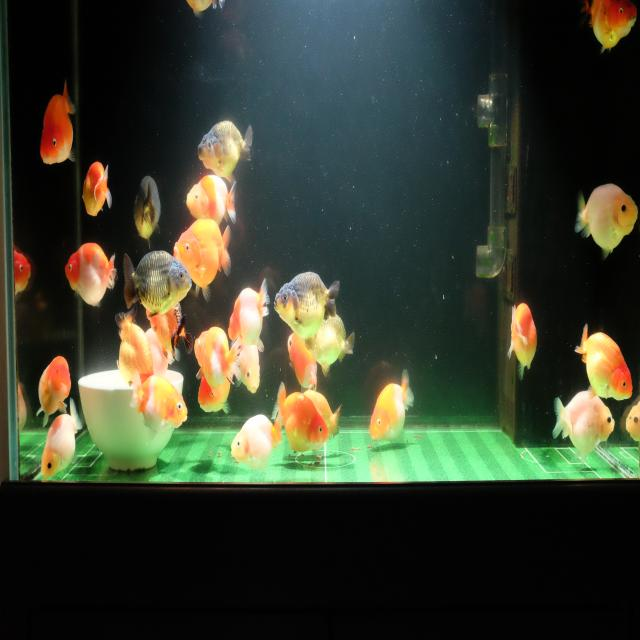Tilapia: (120, 246, 193, 322), (574, 181, 640, 263), (272, 266, 341, 342), (172, 217, 232, 304), (551, 387, 615, 465), (574, 322, 634, 403), (128, 367, 190, 445), (274, 380, 329, 455), (63, 240, 119, 312), (196, 115, 254, 183), (39, 395, 84, 482), (228, 408, 284, 477), (368, 366, 415, 444), (39, 76, 78, 170), (192, 323, 245, 392), (304, 312, 356, 381), (114, 306, 154, 393), (227, 275, 271, 352), (581, 0, 638, 59), (184, 171, 237, 232), (34, 353, 73, 430), (144, 304, 195, 360), (506, 300, 539, 383), (131, 170, 164, 250), (196, 363, 237, 420), (80, 156, 115, 221), (284, 328, 318, 392), (302, 388, 346, 436), (143, 326, 177, 378), (236, 344, 263, 398), (13, 241, 32, 304), (624, 392, 640, 447)
